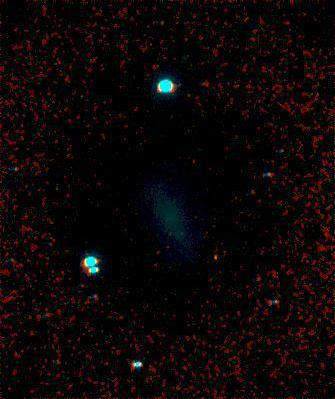star: (202, 242, 232, 272)
